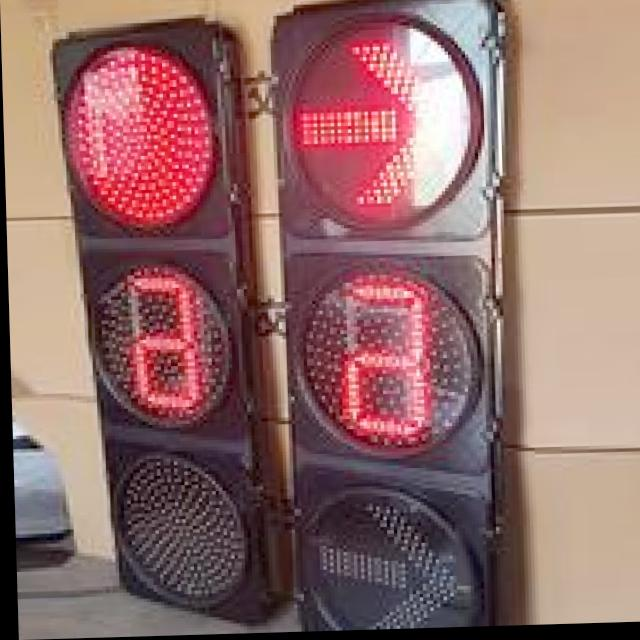red_light: (0, 11, 279, 265), (248, 20, 521, 264)
